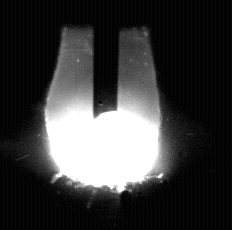arame: (93, 0, 119, 118)
poca: (47, 0, 159, 230)
